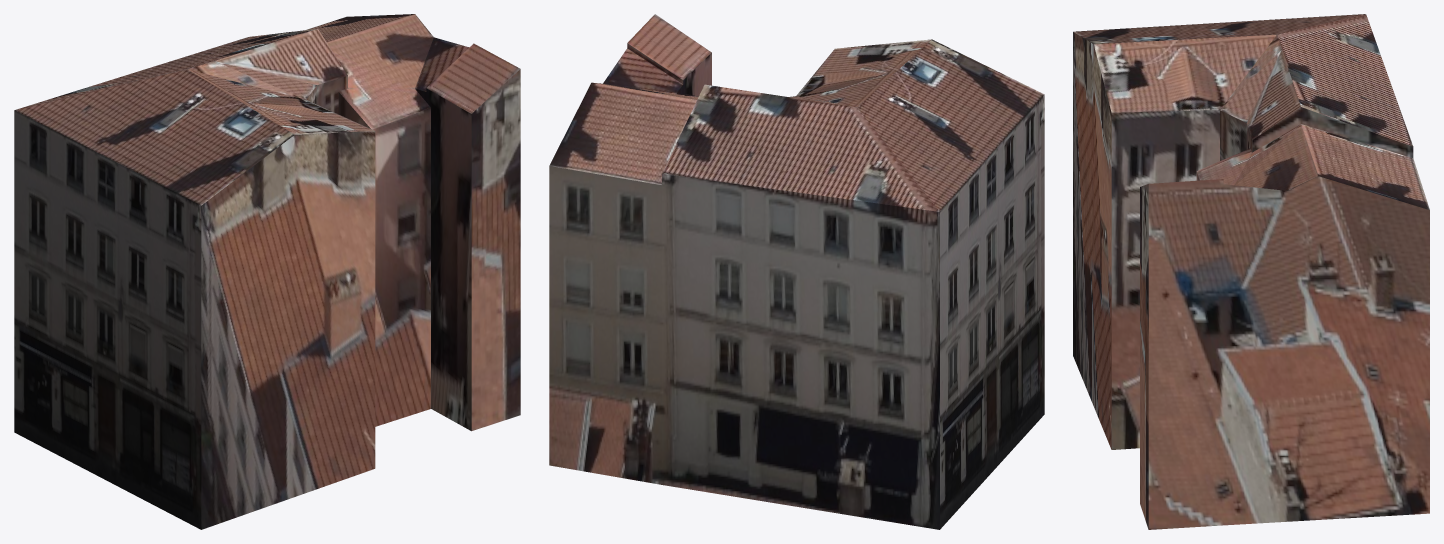
3 renders of one model, left to right at view 1: azimuth 30°, elevation 25°; view 2: azimuth 150°, elevation 25°; view 3: azimuth 270°, elevation 25°, orthographic.
Parts seen in each view (by area): view 1: Z_UP; view 2: Z_UP; view 3: Z_UP.
Boxes of the visible parts, bbox=[...] form: Z_UP: bbox=[14, 14, 520, 529]; Z_UP: bbox=[549, 14, 1044, 529]; Z_UP: bbox=[1073, 14, 1429, 529].
Bounding box in the file's own units: 20.61 × 18.06 × 16.04.
2 materials, 1 textured.
